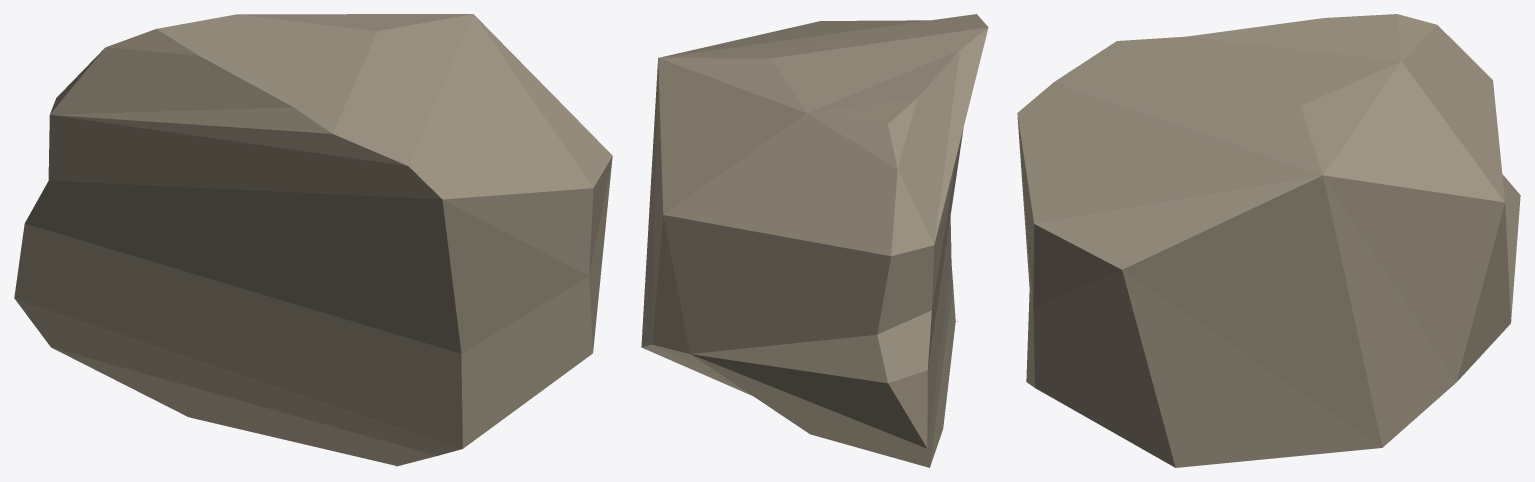
Rendered from SM_Rock_01.glb.
3 renders of one model, left to right at view 1: azimuth 30°, elevation 25°; view 2: azimuth 150°, elevation 25°; view 3: azimuth 270°, elevation 25°, orthographic. The views are drawn at different scales.
Parts seen in each view (by area): view 1: SM_Rock_01; view 2: SM_Rock_01; view 3: SM_Rock_01.
Boxes of the visible parts, x1,y1,x2,y2 form: SM_Rock_01: (14, 14, 612, 466); SM_Rock_01: (641, 14, 988, 467); SM_Rock_01: (1017, 14, 1520, 467).
Size of the model in its own units: 0.3265 by 0.2681 by 0.3502.
1 material, 1 textured.
